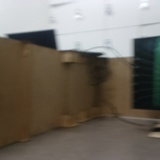fire: (135, 39, 160, 108)
